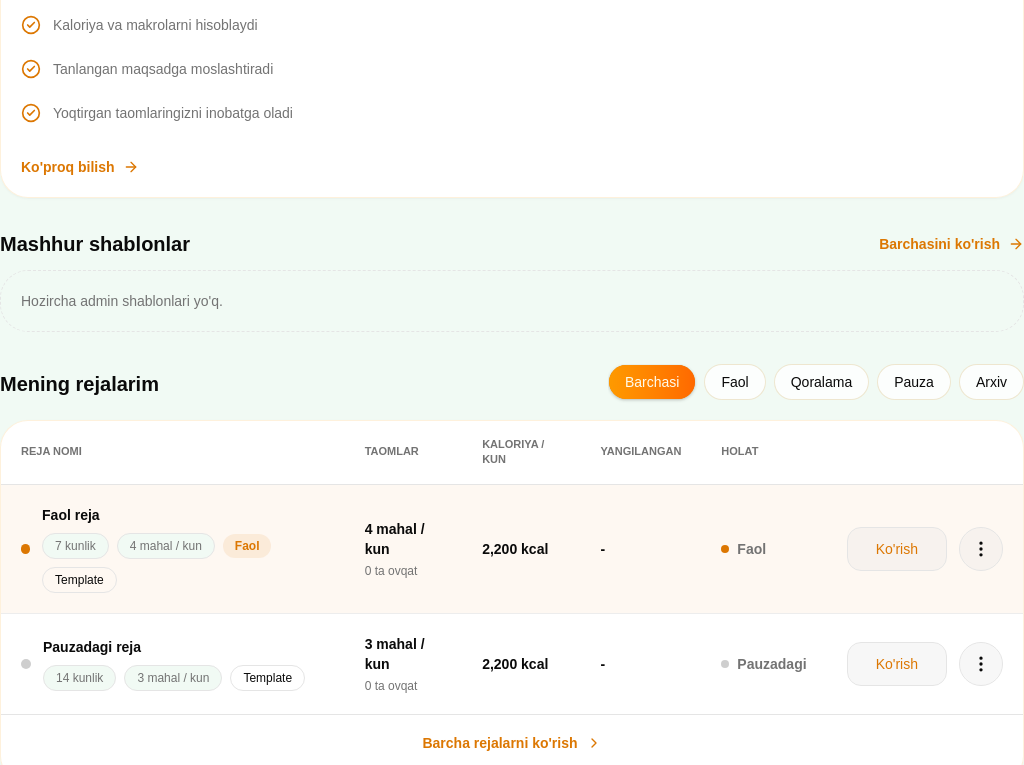
NutritionPlansView › separates paused plans in the status filter
(page scrolled)
Check: the text "Pauzadagi reja" is shown, box [43,639,141,655]
What coordinates should you click on to do the following:
click the tab "Pauza"
I would click on:
 (914, 382)
Its box is [877,364,951,400].
(page scrolled)
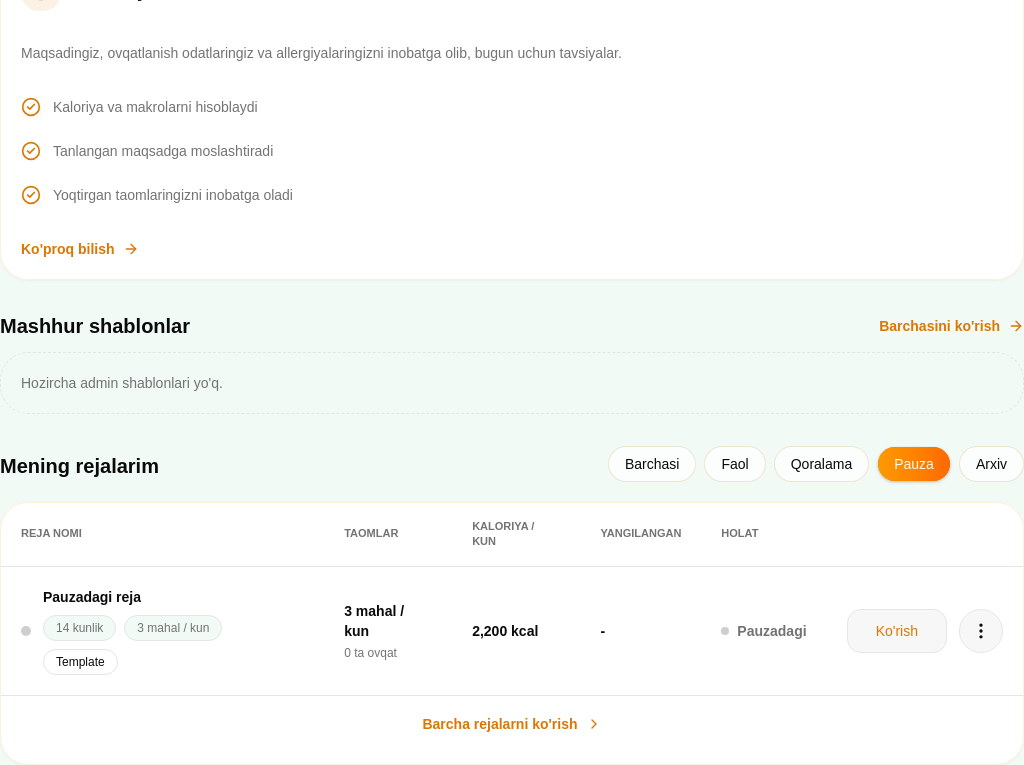
Check: the row "Pauzadagi reja 14 kunlik" is shown, box [1,566,1023,695]
Check: the row "Faol reja 7 kunlik" is gone
